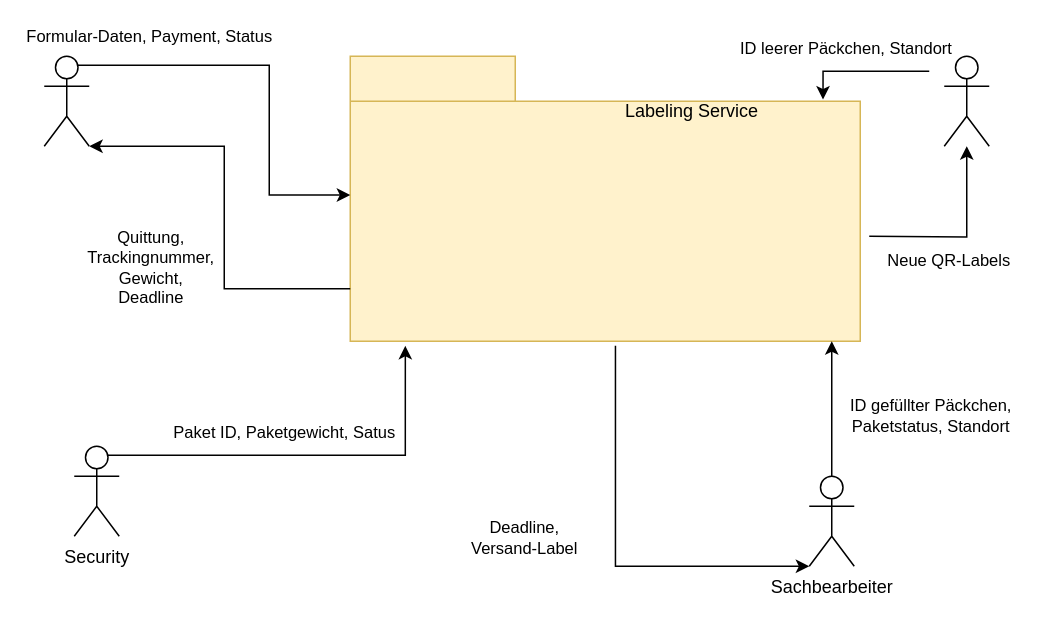
Image size: 1037x623. Some labels were removed from this diagram. The shapes that lost their labels are listed below. From the top down, each one's box as (x1, y1, x2, y2) in pixels, then its label:
(43, 55, 89, 146): Kunde
(943, 55, 989, 146): Kurier
